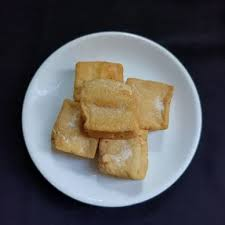Tahu goreng: (80, 79, 138, 138), (51, 99, 94, 159), (99, 131, 149, 181), (136, 78, 175, 130), (69, 57, 129, 83)
